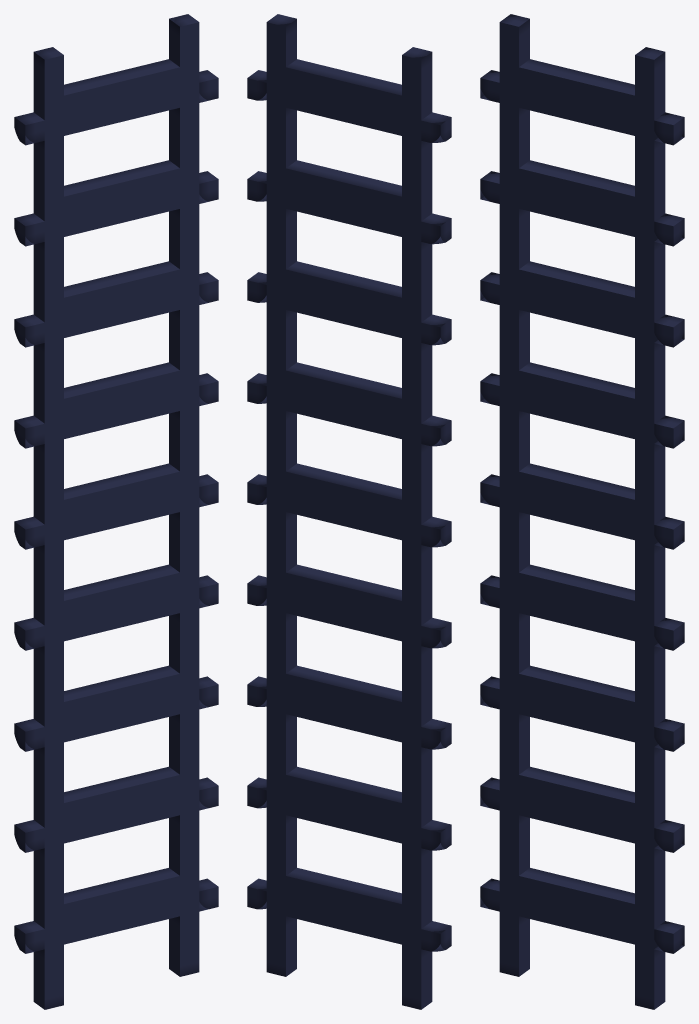
The model's file is drabina.dae.
3 views of the same model, side by side, from view 1: azimuth 30°, elevation 25°; view 2: azimuth 150°, elevation 25°; view 3: azimuth 330°, elevation 25° (orthographic).
Visible parts, largest first — view 1: Content; view 2: Content; view 3: Content.
Part boxes in pixels (x1,y1,x2,y2): Content: [14, 14, 218, 1009]; Content: [247, 14, 451, 1009]; Content: [480, 14, 684, 1009].
Bounding box in the file's own units: 10 × 47 × 1.
1 material, 1 textured.
